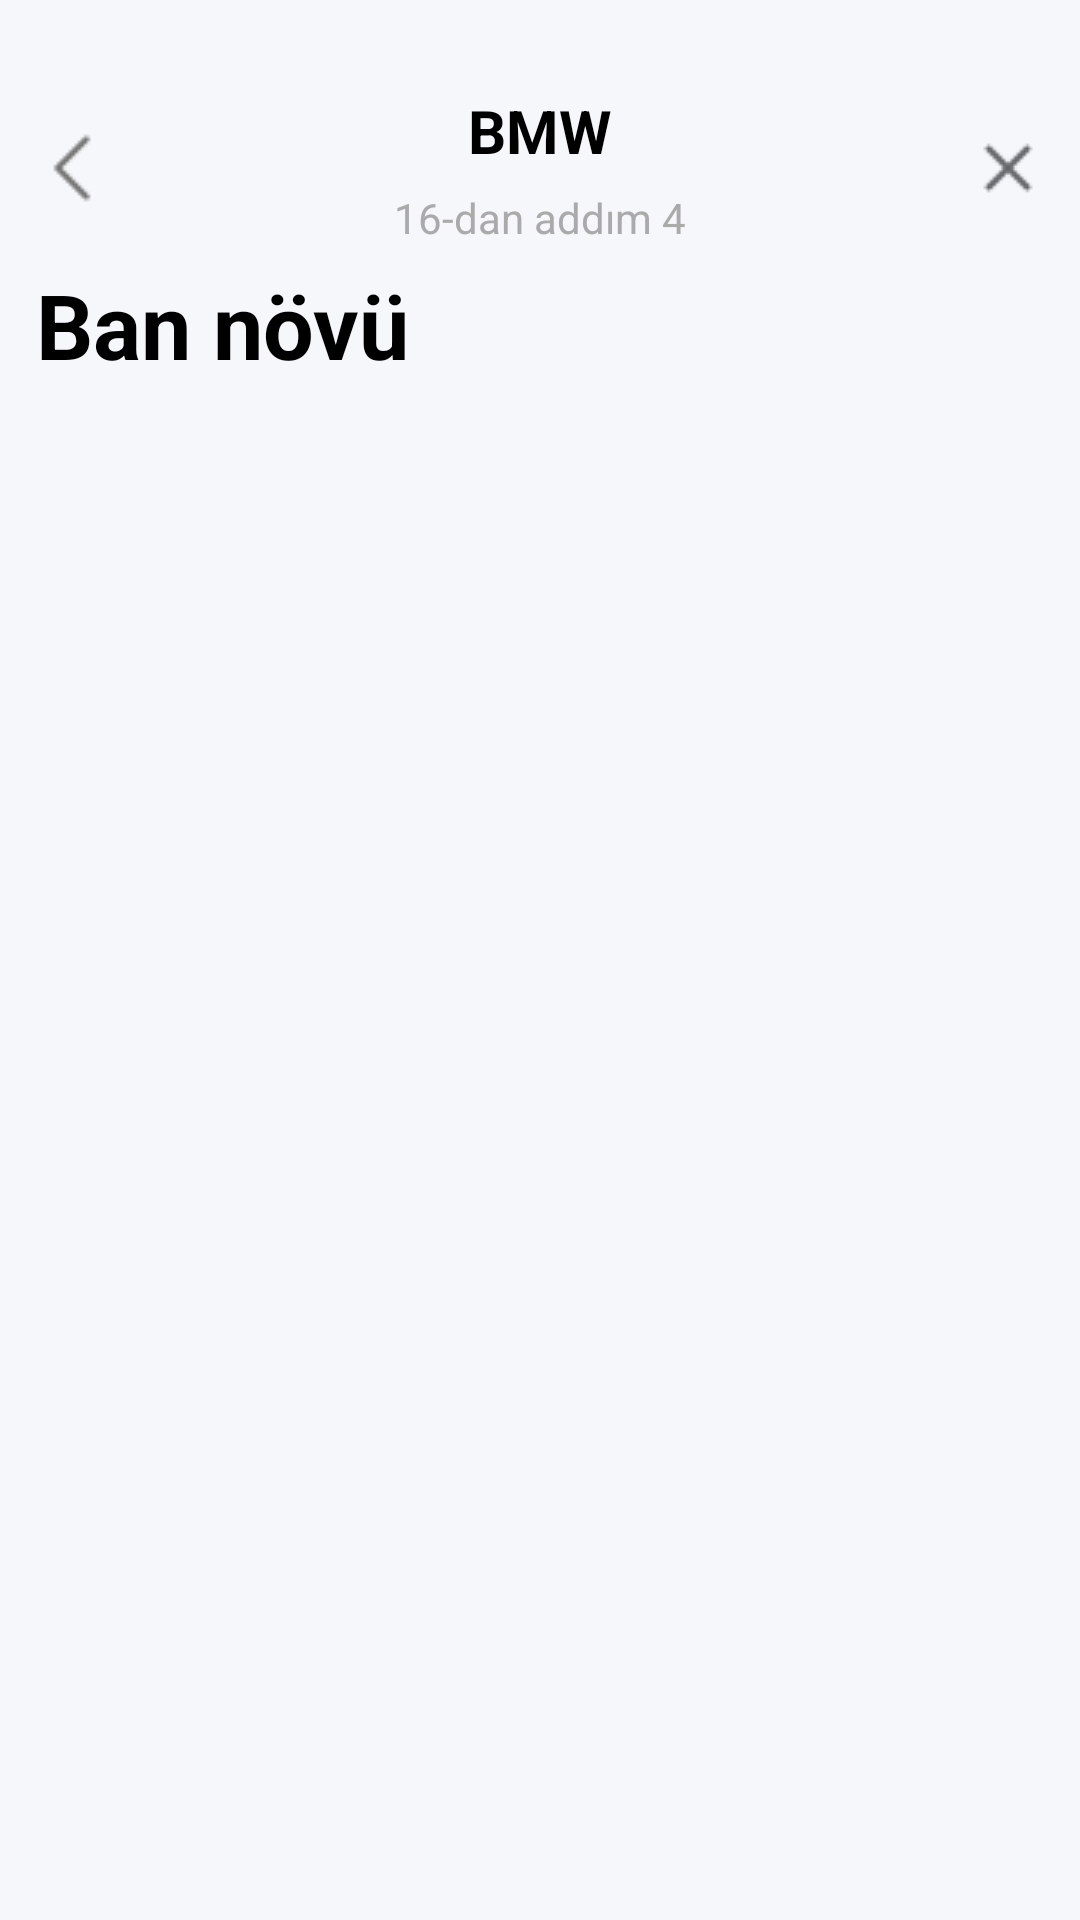

Locate icon controls on the screen. Image size 1080px x 1920px, boxes as (x1, y1, x2, y2).
back: (53, 135, 91, 201)
cancel: (984, 144, 1032, 192)
